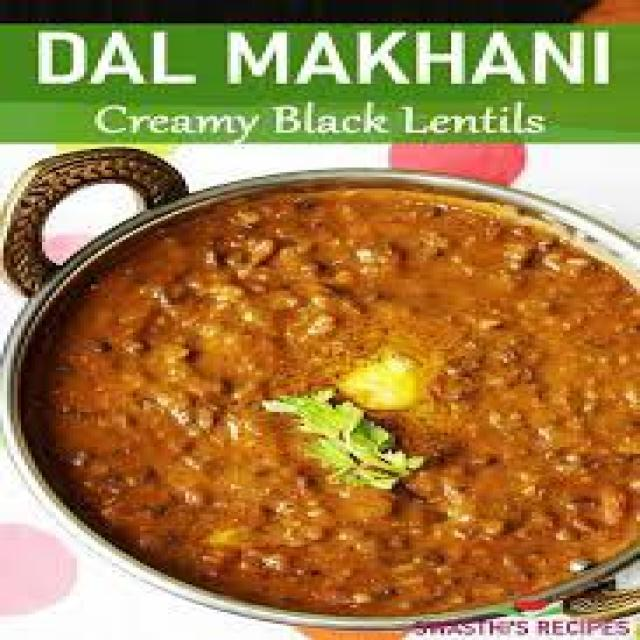dal_makhani: (11, 182, 640, 628)
